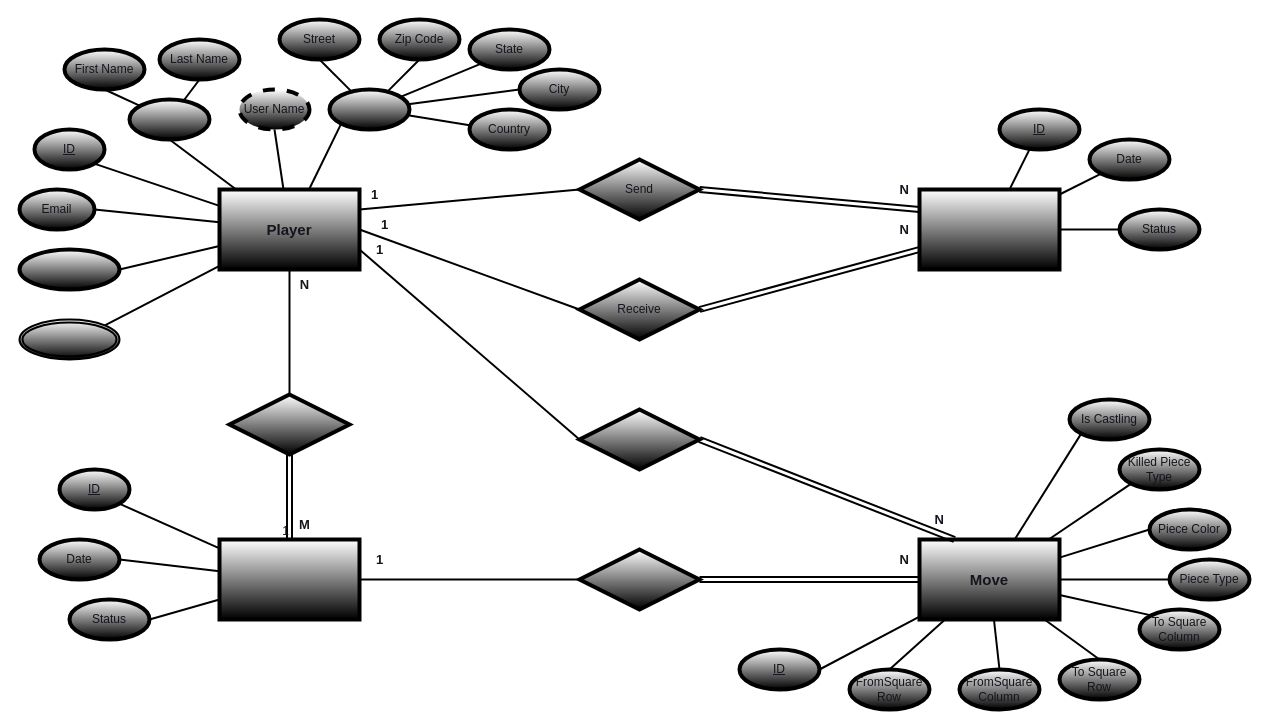
The diagram is 1268 pixels wide and 728 high, and some of its shapes have lost their labels. Here are the shapes that lost their labels. From the top down, the box of each, then its label:
(127, 97, 211, 141): Name
(327, 87, 411, 131): Address
(917, 187, 1061, 271): Invitation
(17, 247, 121, 291): Password
(18, 318, 120, 360): Phone
(227, 392, 351, 456): Play
(577, 407, 701, 471): Make
(217, 537, 361, 621): Game
(577, 547, 701, 611): Contain
